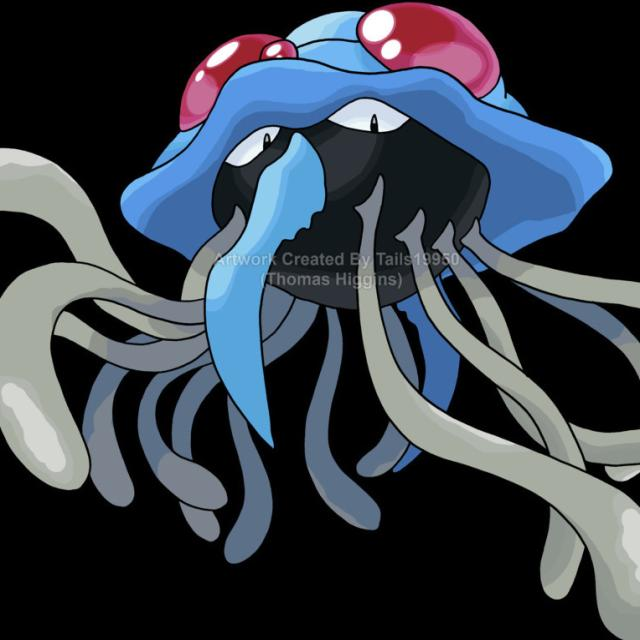Tentacruel: (113, 0, 545, 454)
